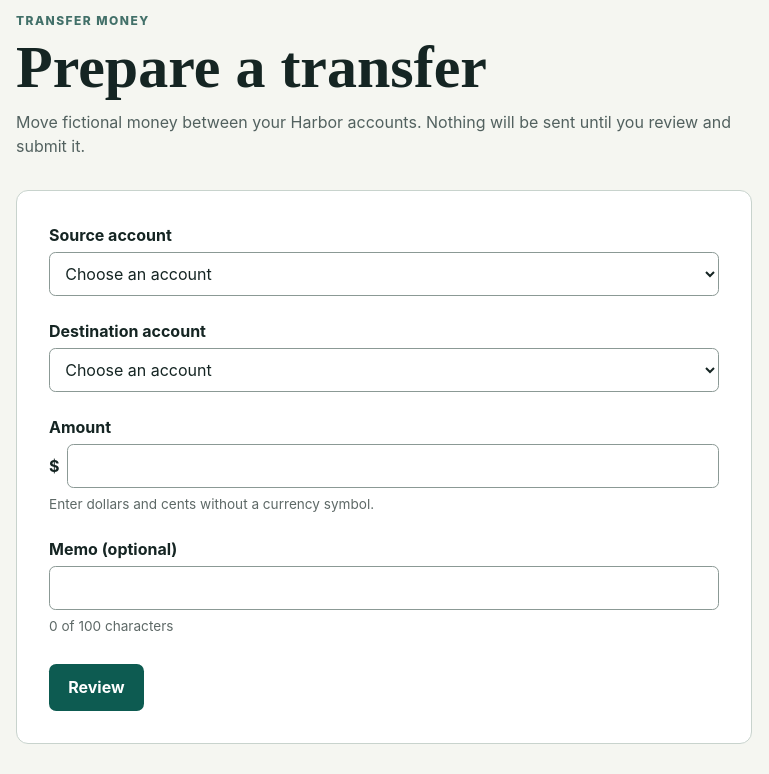
Test case: transfer form validation › removes an error relationship when the member corrects a field
Step 1. Click the button "Review" → (96, 688), box x1=49 y1=664 x2=144 y2=711
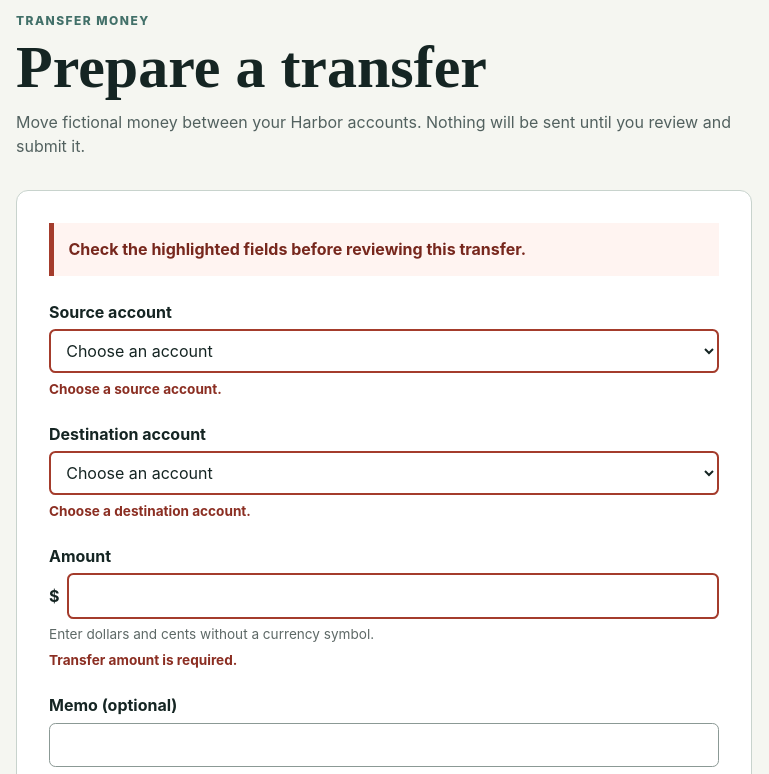
Step 2. Type "25" into the number field labelled "Amount" → (393, 596), box x1=68 y1=573 x2=719 y2=619
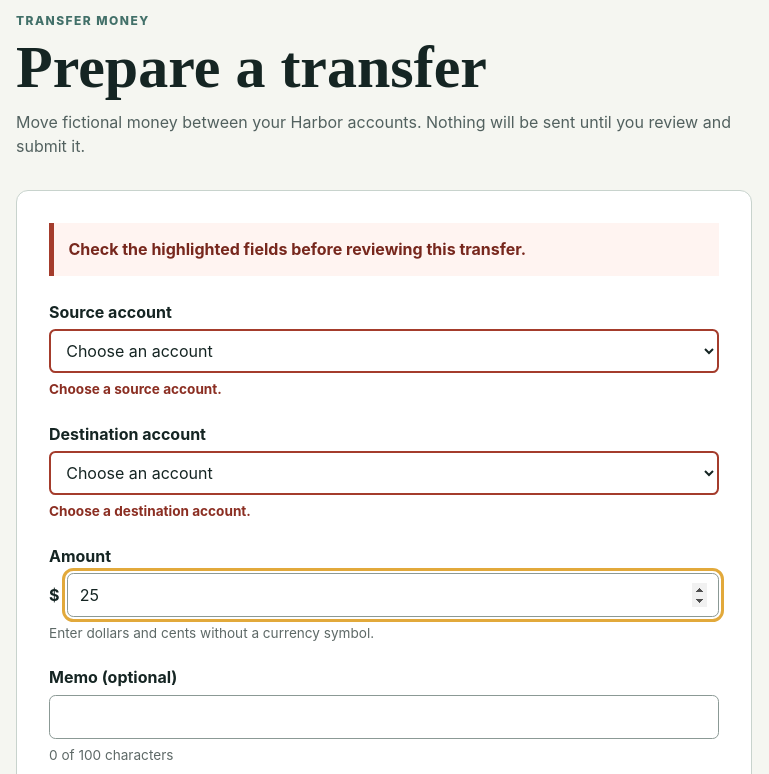
Result: the text "Transfer amount is required." is gone
